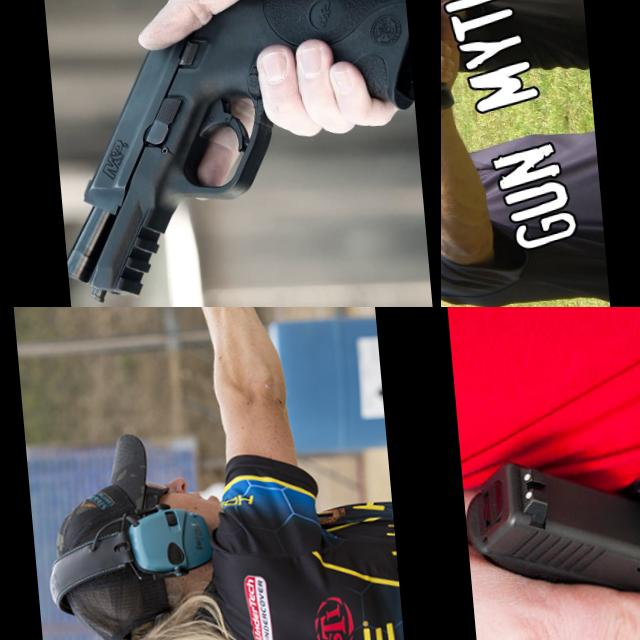handgun: (33, 0, 429, 306), (460, 433, 640, 640), (115, 307, 207, 380), (441, 0, 465, 56), (441, 0, 459, 52)
